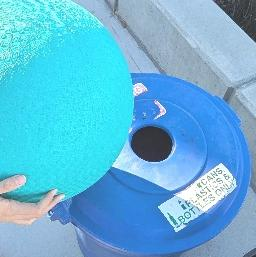algae: (0, 0, 127, 203)
